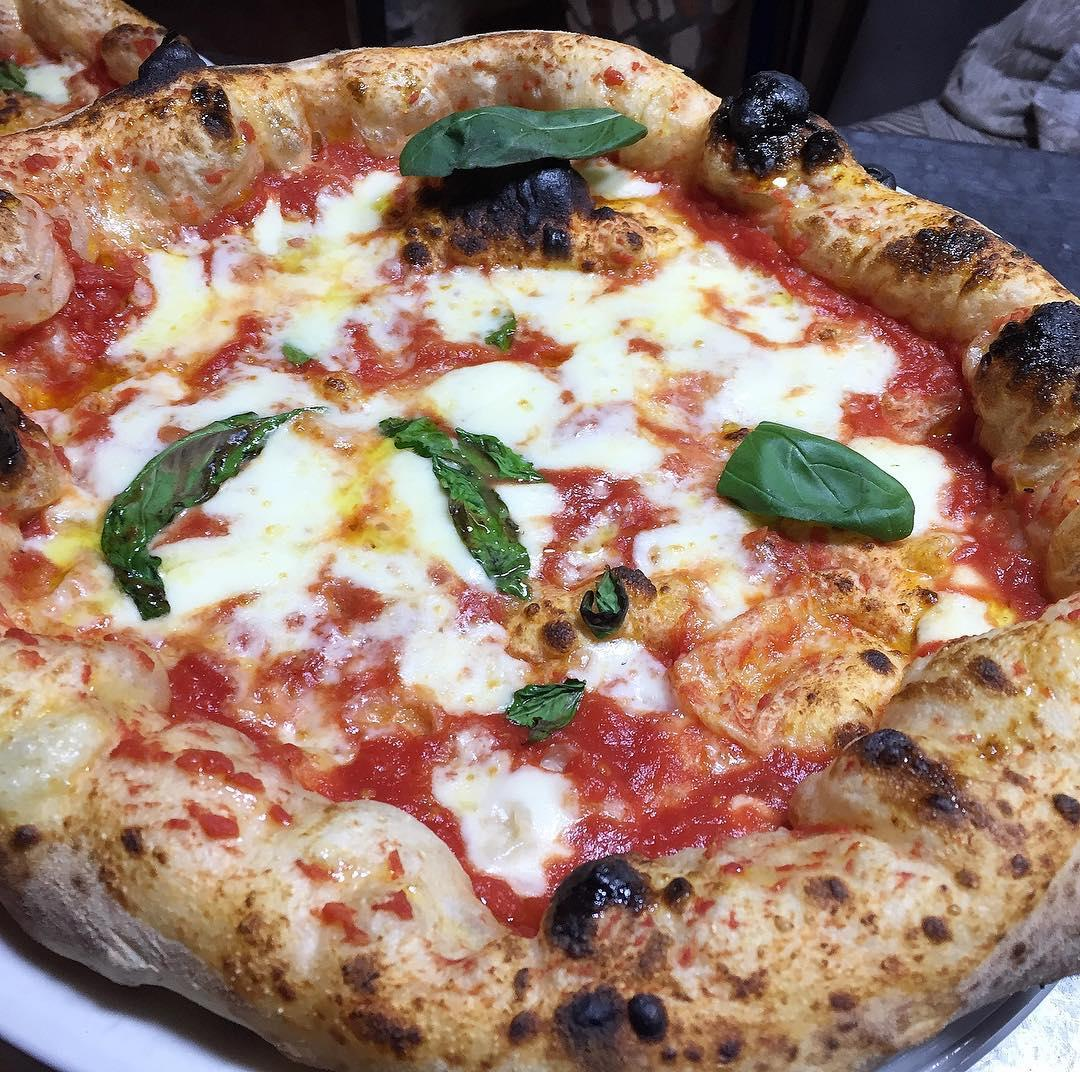Basil: (95, 398, 333, 628), (370, 407, 545, 610), (717, 412, 918, 555), (395, 98, 648, 183), (485, 668, 603, 743), (567, 555, 670, 625)
Pizza: (0, 28, 1080, 1072)
